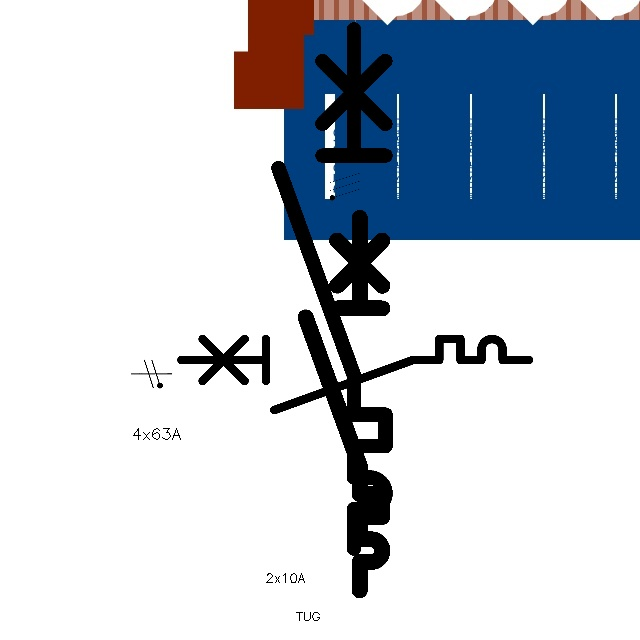interruptor_termomagnetico: (265, 16, 399, 562), (296, 208, 392, 600), (172, 330, 537, 419)
